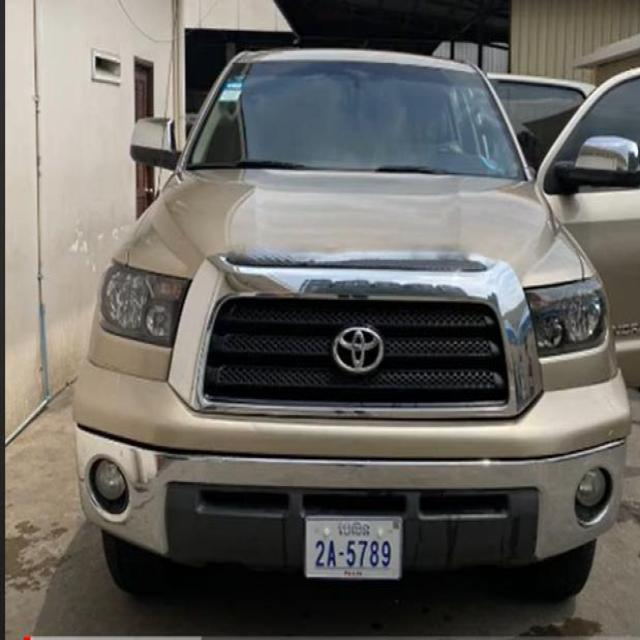Pailin: (338, 520, 369, 538)
